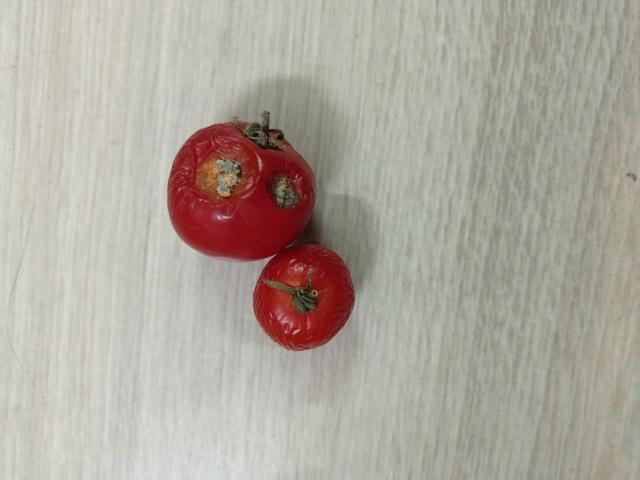defect: (165, 110, 318, 263), (251, 242, 357, 351)
